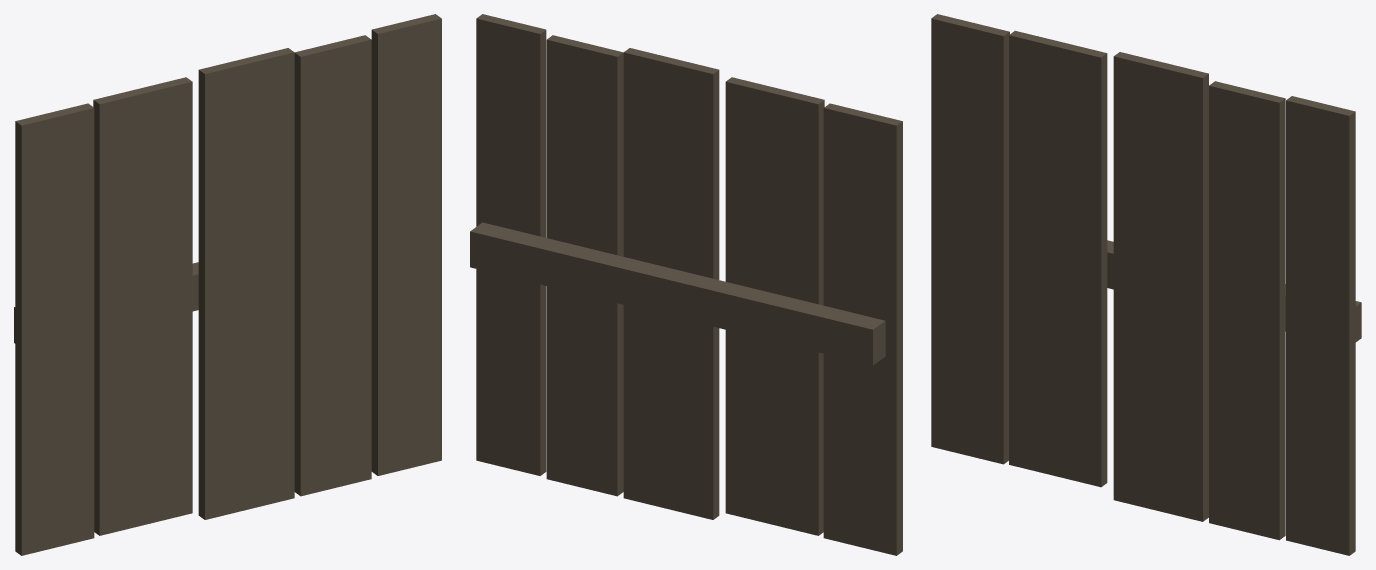
File: bretter_1x1.glb
3 renders of one model, left to right at view 1: azimuth 30°, elevation 25°; view 2: azimuth 150°, elevation 25°; view 3: azimuth 330°, elevation 25°, orthographic.
Parts seen in each view (by area): view 1: bretter_1x1; view 2: bretter_1x1; view 3: bretter_1x1.
Part boxes in pixels (x1,y1,x2,y2): bretter_1x1: (14,14,441,555); bretter_1x1: (470,14,902,555); bretter_1x1: (931,14,1361,555).
Bounding box in the file's own units: 0.9803 × 0.9939 × 0.075.
